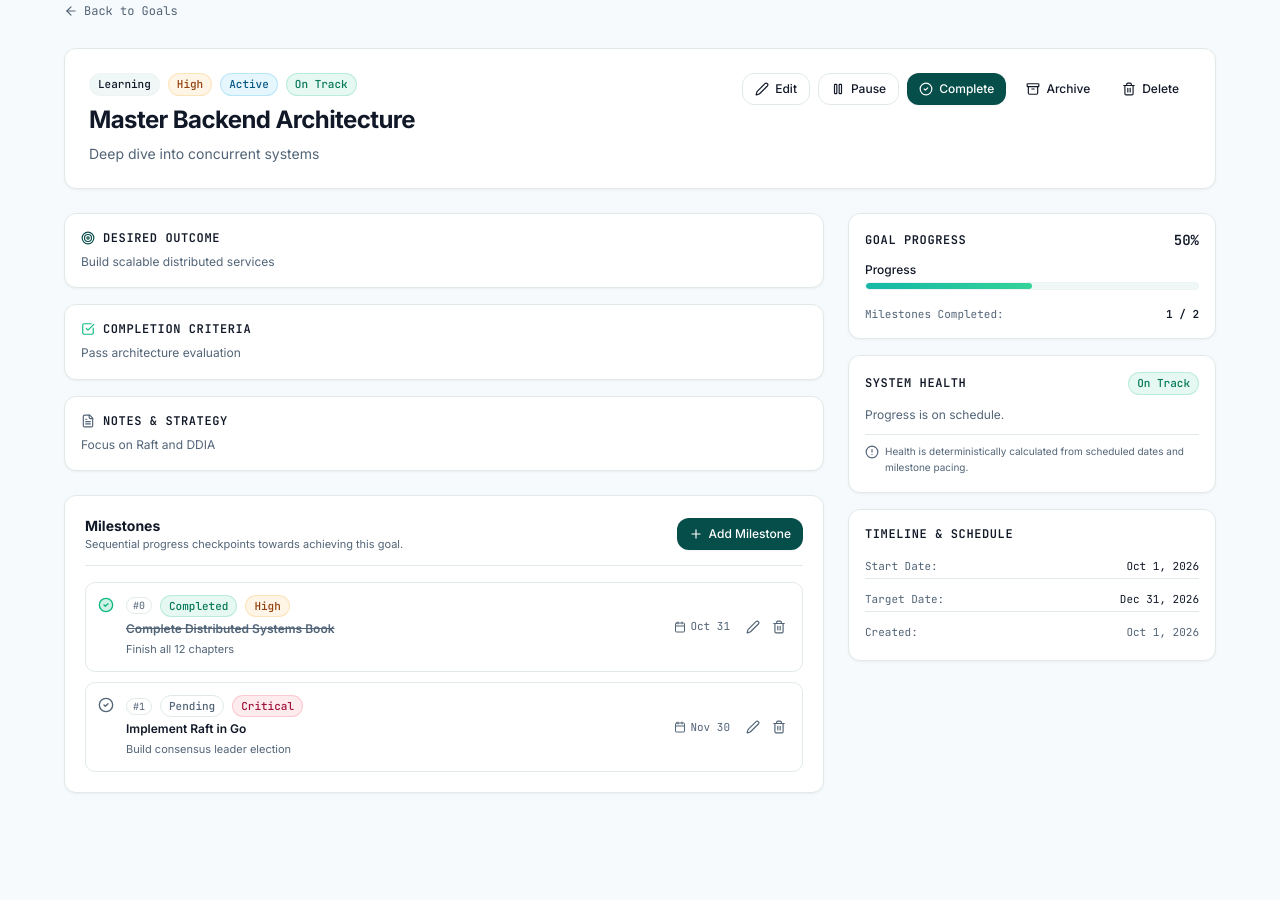
Scenario: GoalDetailPage Component › opens Add Milestone modal when clicking Add Milestone button
The image size is (1280, 900).
Click the button "Add Milestone" at point(740, 534), box [676, 518, 803, 550]
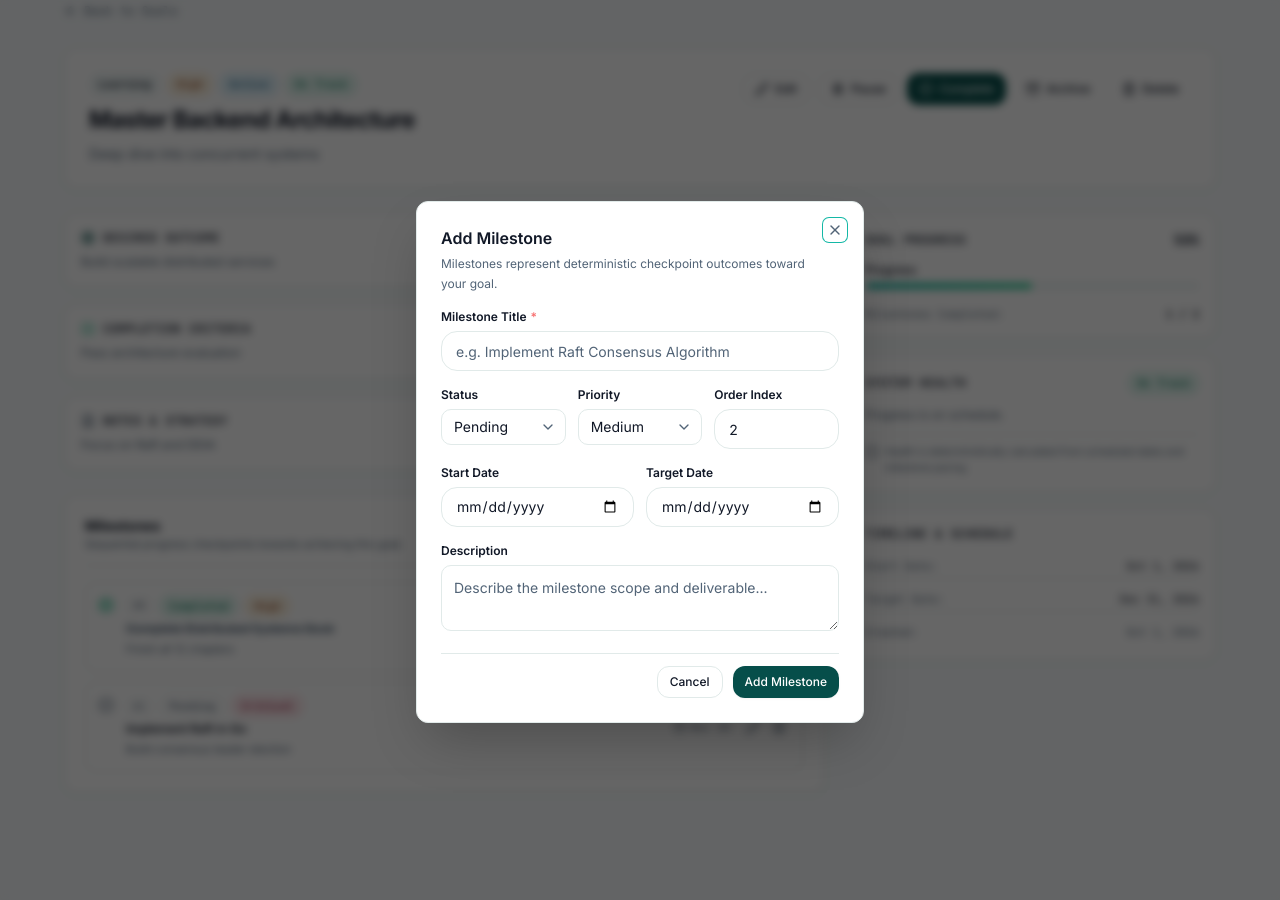
expect the heading "Add Milestone" is shown: met, box [441, 228, 552, 248]
